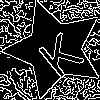K: (29, 24, 86, 80)
